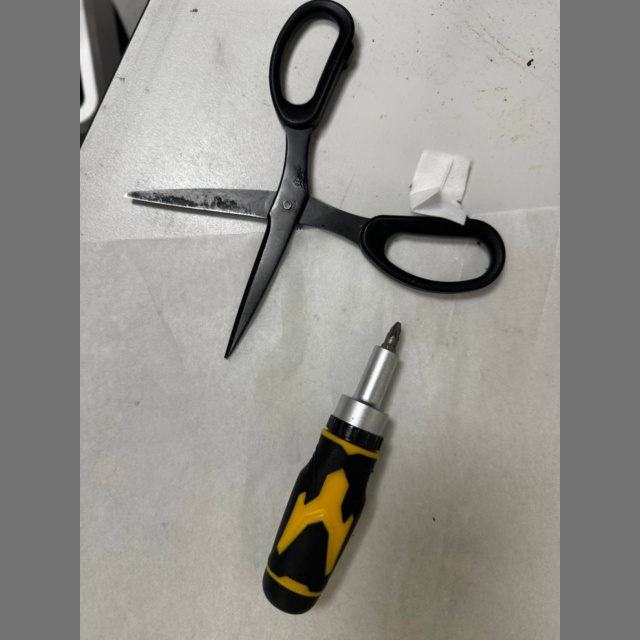scissor: (128, 0, 505, 357)
screwdriver: (263, 322, 402, 614)
